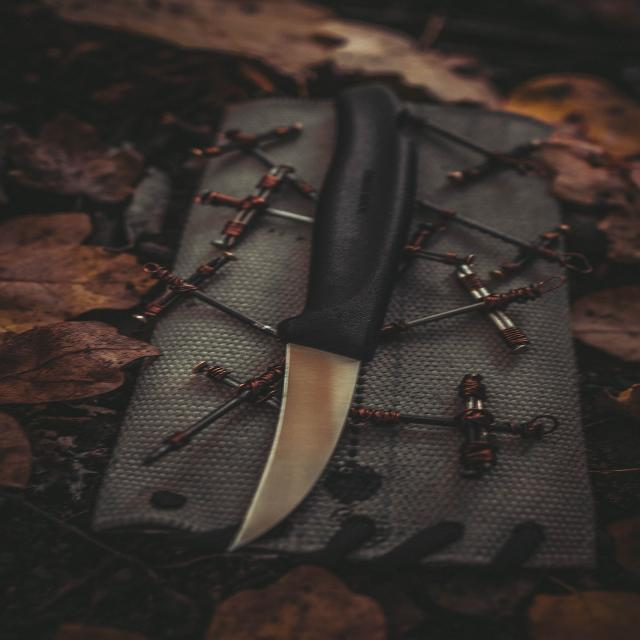knife: (228, 81, 415, 548)
